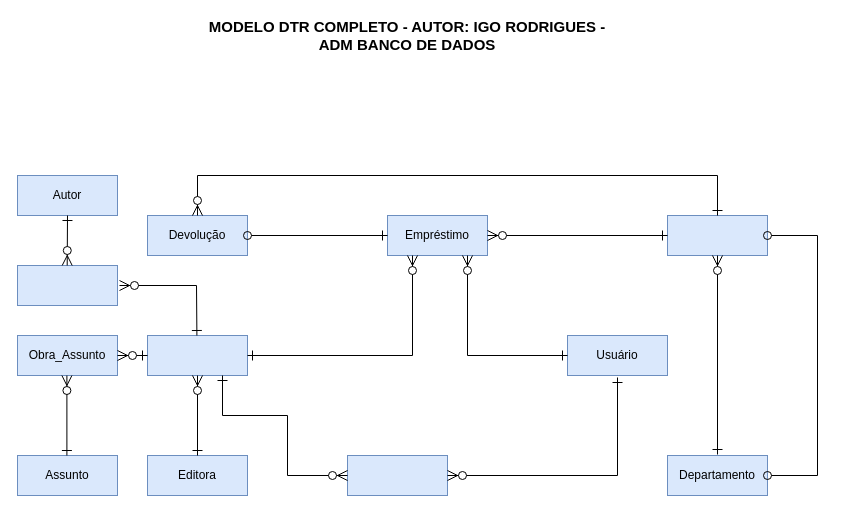
This 846x513 diagram has some shape labels left out. Here are the shapes that lost their labels. From the top down, the centre of each, then its label:
At point 717,235: "Funcionário".
At point 67,285: "Obra_autor".
At point 197,355: "Obra".
At point 397,475: "Reserva".
